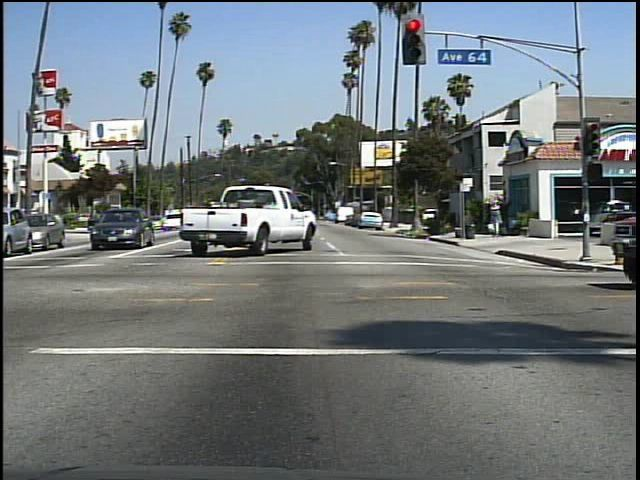person: (484, 198, 509, 242)
